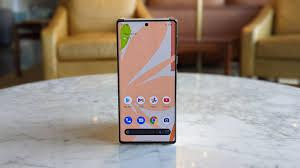Smartphone: (115, 18, 181, 149)
